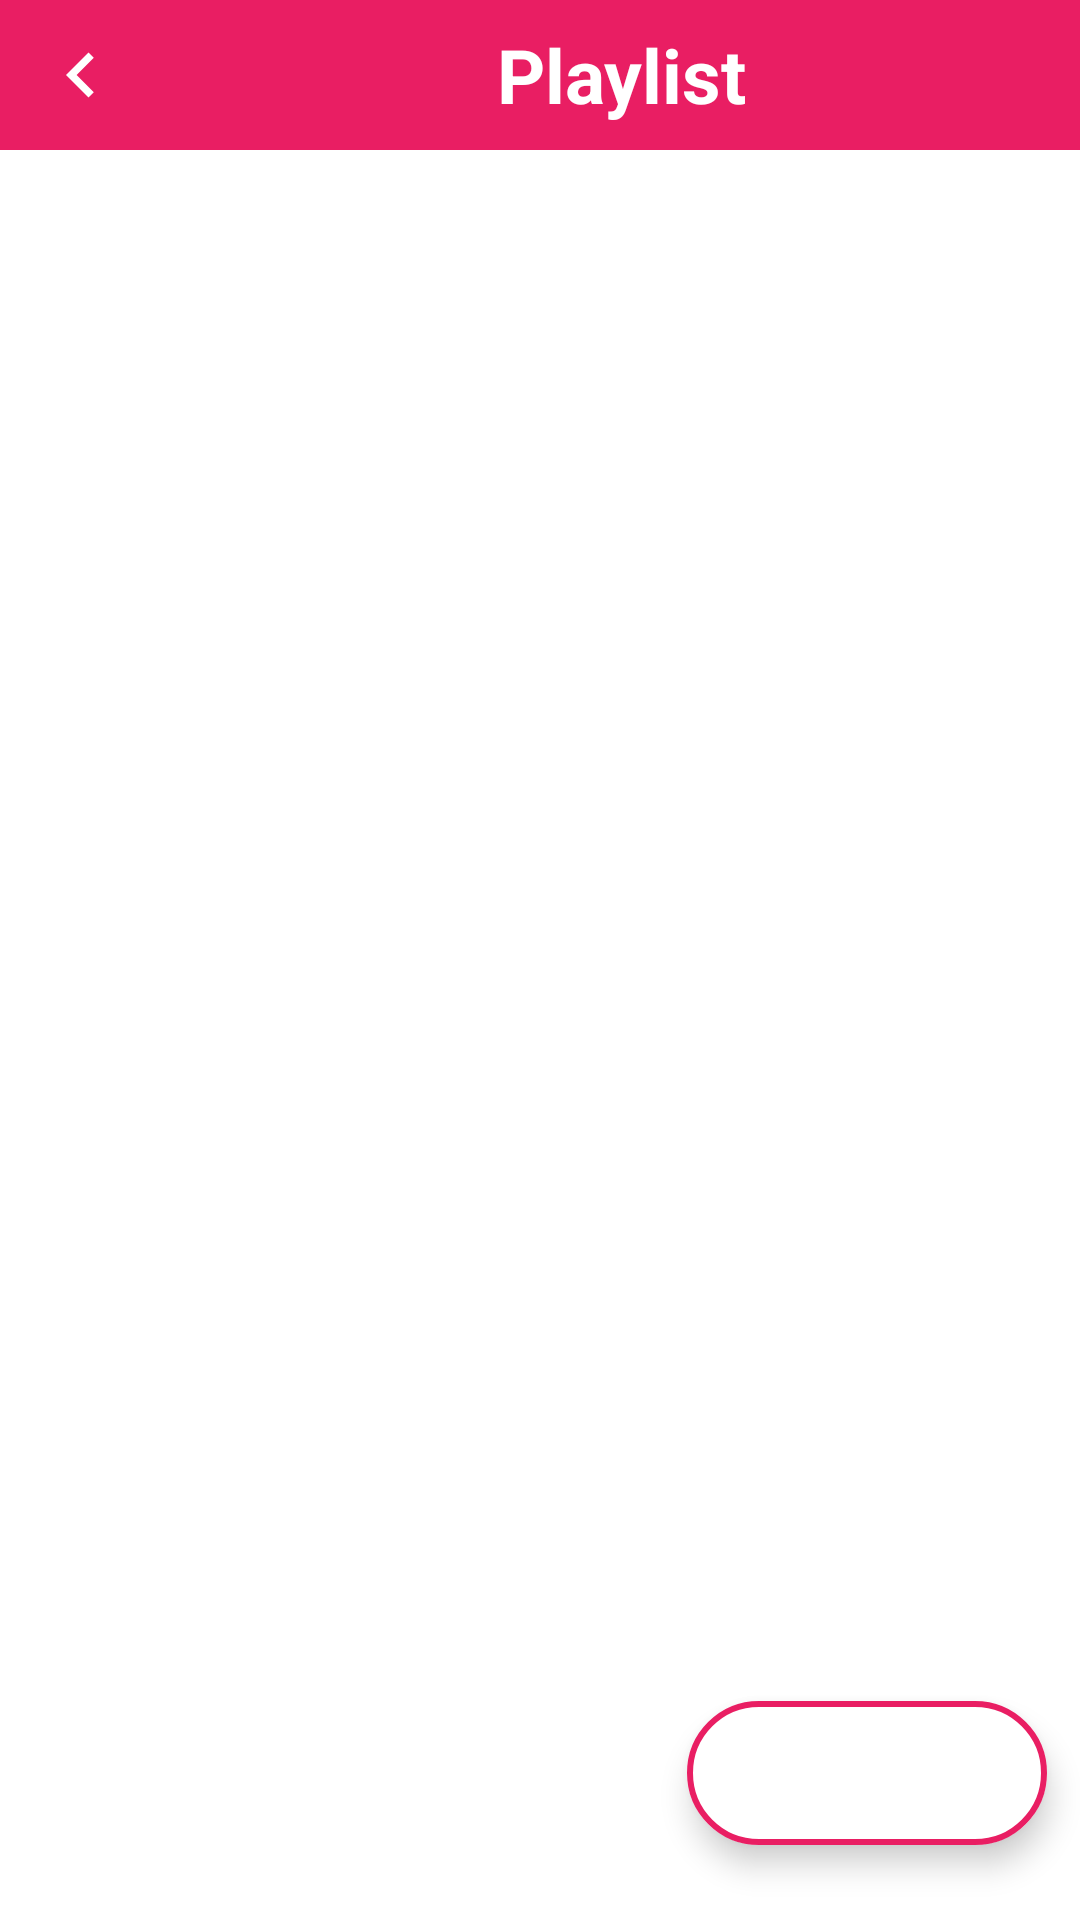

Screen size 1080px×1920px. Icon name, then its box in pixels as (x1, y1, x2, y2):
Back: (66, 52, 94, 98)
